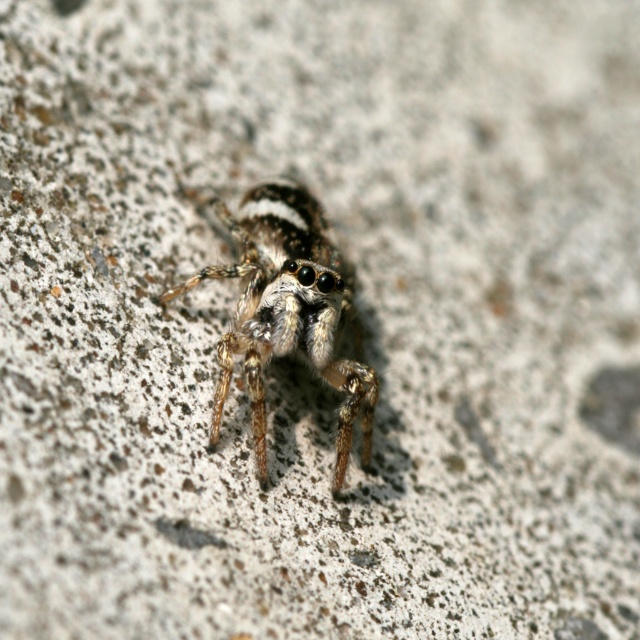Spider: (158, 174, 393, 501)
